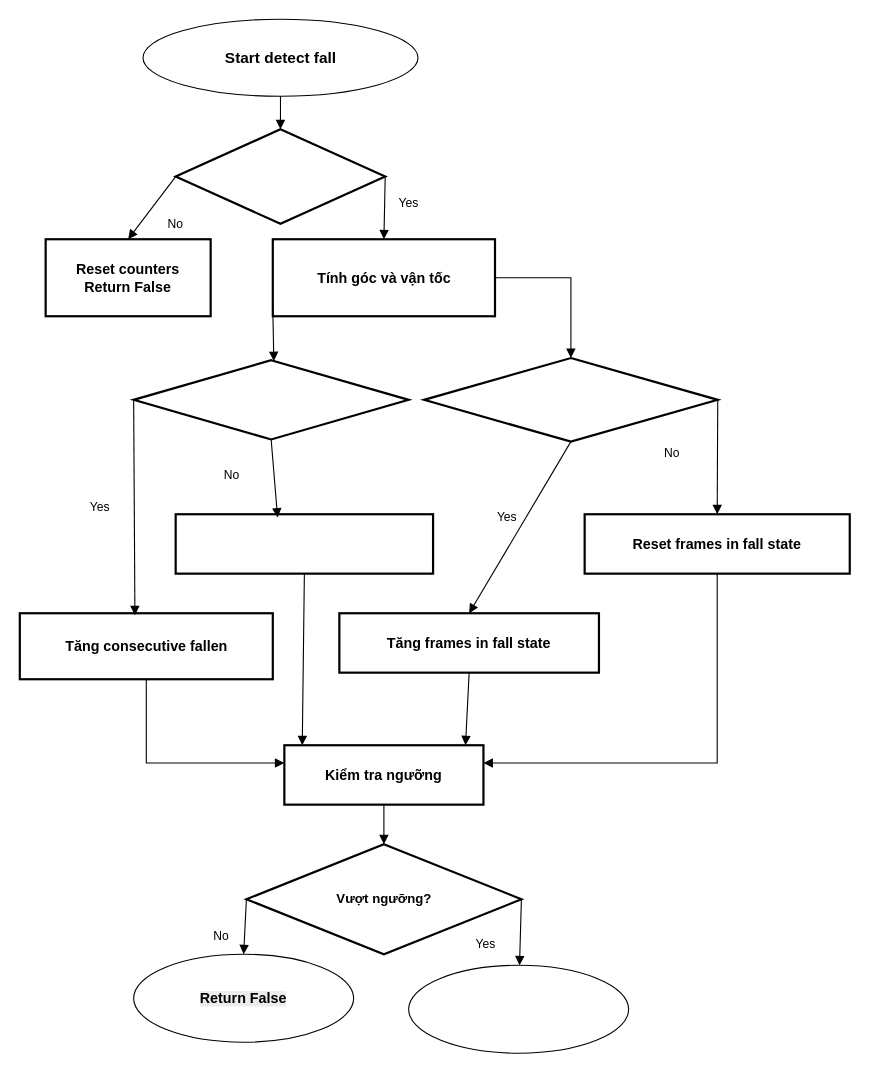
The diagram is 870 pixels wide and 1073 high, and some of its shapes have lost their labels. The shapes that lost their labels are listed below. From the top down, each one's box as (x1, y1, x2, y2) in pixels, then its label:
(174, 128, 386, 224): Landmarks hợp lệ?
(132, 359, 409, 440): Falling?
(422, 356, 718, 442): Lying?
(174, 513, 434, 574): Reset consecutive fallen
(408, 964, 629, 1053): Reset counters Return True
